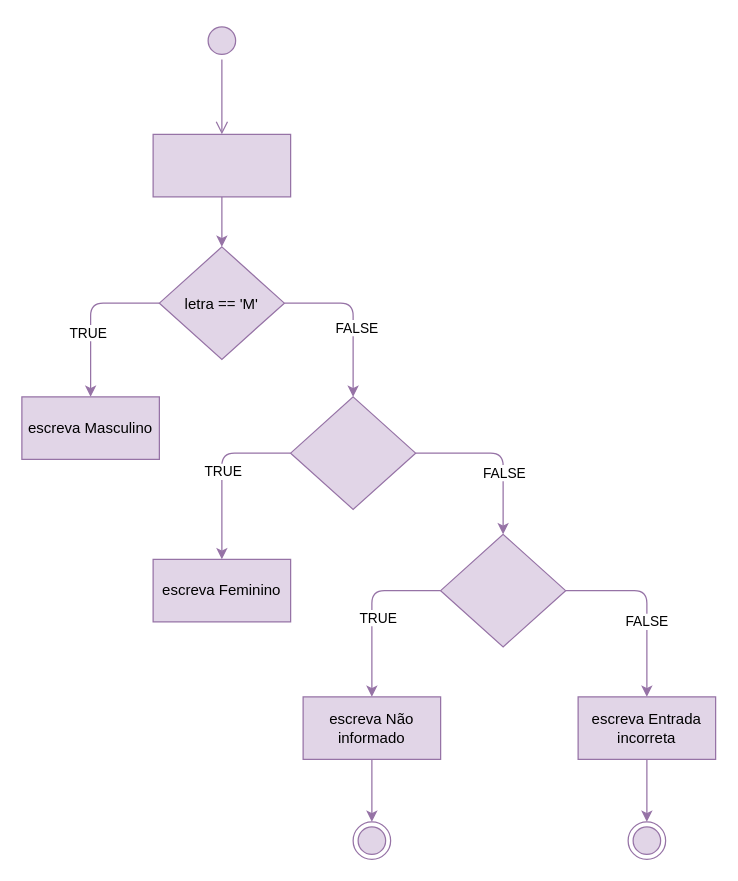
This 738x881 diagram has some shape labels left out. Each missing label, with the box of its shape:
ler letra: (152, 133, 291, 197)
letra == 'F': (289, 396, 416, 509)
letra == 'I': (439, 533, 566, 647)
